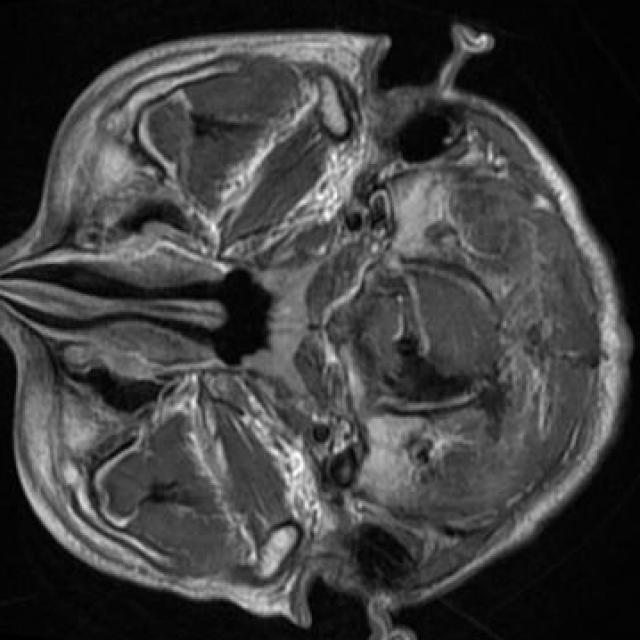glioma: (392, 332, 471, 403)
